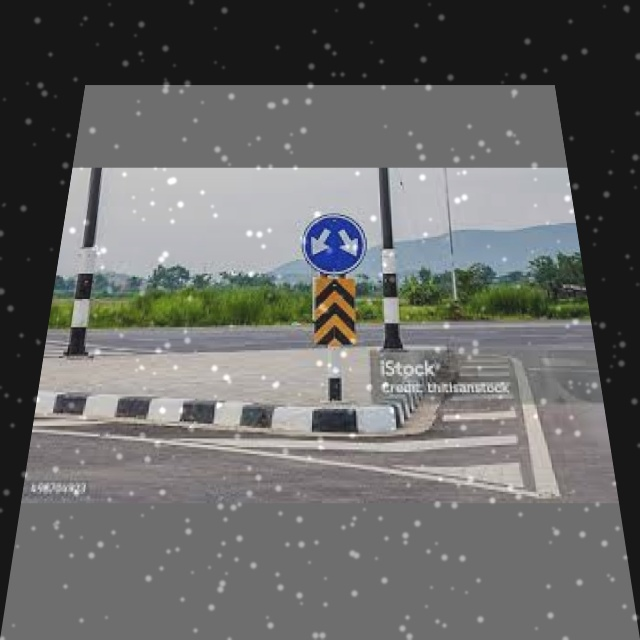Pass_Either_Side: (300, 211, 370, 275)
